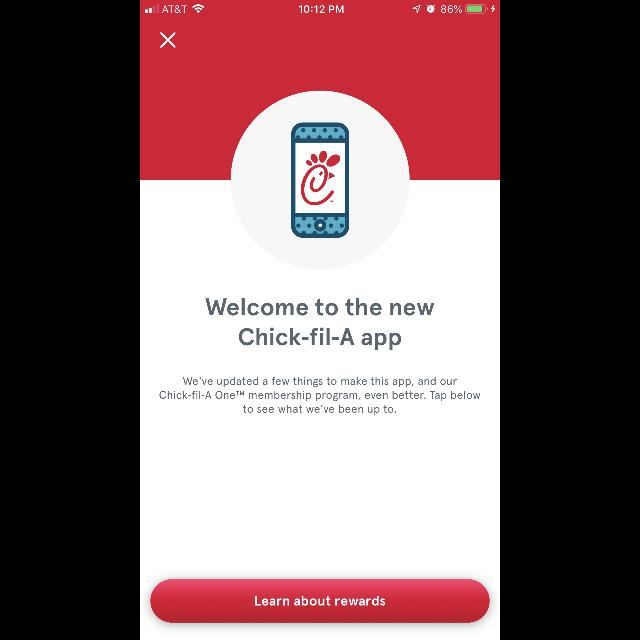icon: (160, 32, 176, 48)
image: (291, 122, 349, 238)
text: (160, 376, 480, 416), (206, 298, 434, 350)
textbutton: (150, 579, 490, 623)
uppertaskbar: (140, 0, 500, 14)
